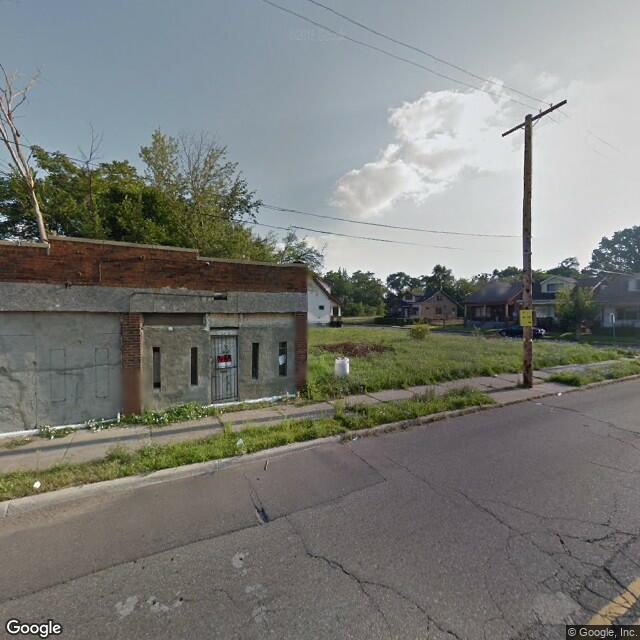litter: (346, 427, 367, 445), (28, 475, 47, 490), (232, 431, 249, 447), (550, 389, 568, 400), (485, 369, 503, 379)
